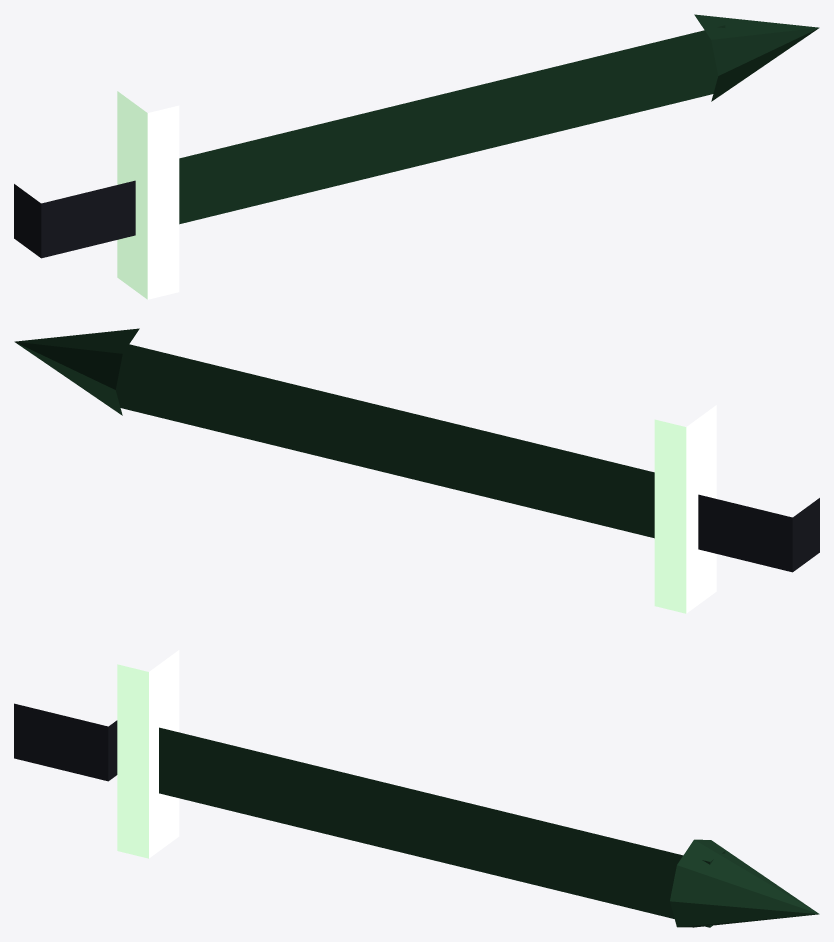
File: wraith-king.glb
3 renders of one model, top to bottom at view 1: azimuth 30°, elevation 25°; view 2: azimuth 150°, elevation 25°; view 3: azimuth 330°, elevation 25°, orthographic.
Visible parts, largest first — view 1: wraith-king-blade, wraith-king-guard, wraith-king-grip, wraith-king-tip; view 2: wraith-king-blade, wraith-king-guard, wraith-king-grip, wraith-king-tip; view 3: wraith-king-blade, wraith-king-guard, wraith-king-tip, wraith-king-grip.
Part boxes in pixels (<box>): wraith-king-blade: <box>179,25,725,224</box>; wraith-king-guard: <box>117,91,179,299</box>; wraith-king-grip: <box>14,180,135,258</box>; wraith-king-tip: <box>694,14,819,101</box>; wraith-king-blade: <box>108,339,654,538</box>; wraith-king-guard: <box>654,405,716,613</box>; wraith-king-grip: <box>698,494,819,572</box>; wraith-king-tip: <box>14,328,139,415</box>; wraith-king-blade: <box>159,727,725,927</box>; wraith-king-guard: <box>117,650,179,858</box>; wraith-king-tip: <box>670,839,819,927</box>; wraith-king-grip: <box>14,703,117,781</box>.
Size of the model in its own units: 1.51 by 0.34 by 0.16.
